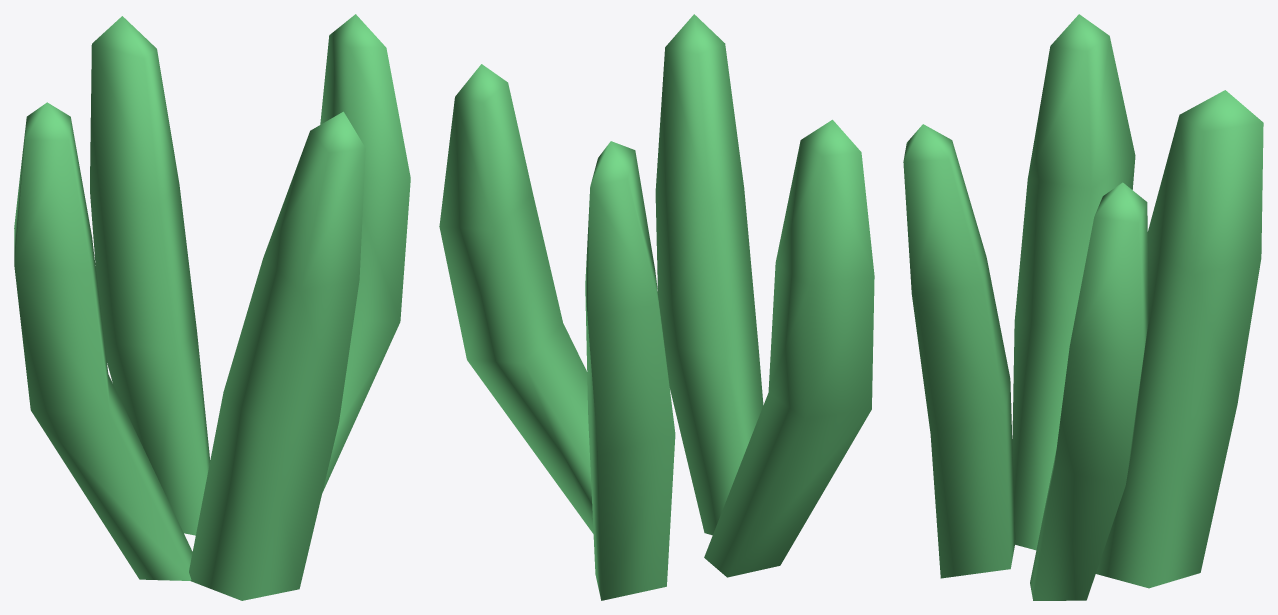
Rendered from Grass_A_01_LOD2.gltf.
The picture shows the model from 3 angles, left to right: view 1: azimuth 30°, elevation 25°; view 2: azimuth 150°, elevation 25°; view 3: azimuth 270°, elevation 25°; orthographic projection.
Visible parts, largest first — view 1: Grass_A_01_LOD2_Cube.776; view 2: Grass_A_01_LOD2_Cube.776; view 3: Grass_A_01_LOD2_Cube.776.
Boxes of the visible parts, box(x1,y1,x2,y2) form: Grass_A_01_LOD2_Cube.776: box(14, 14, 410, 600); Grass_A_01_LOD2_Cube.776: box(439, 14, 874, 600); Grass_A_01_LOD2_Cube.776: box(903, 14, 1263, 600).
Size of the model in its own units: 2.78 by 3.19 by 2.19.
Materials: 1 (1 with a texture image).
